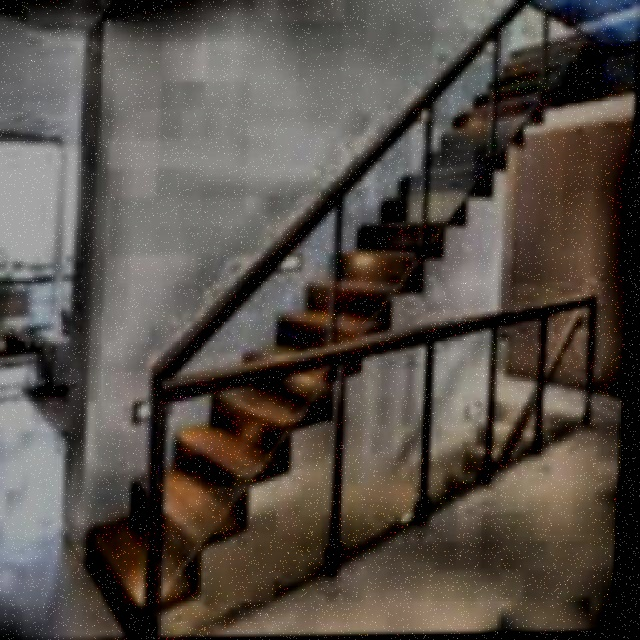stair: (77, 34, 608, 635)
